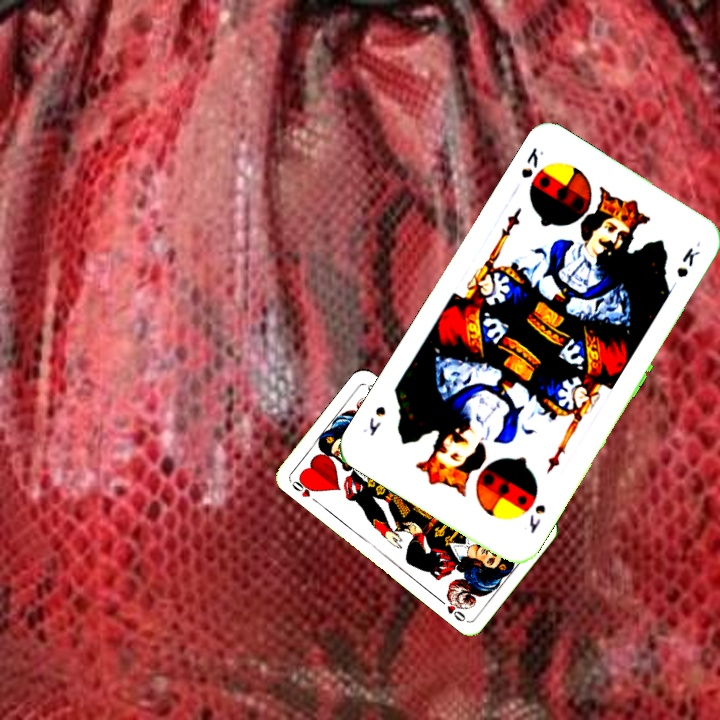HO: (286, 473, 319, 500)
SK: (517, 143, 547, 181), (525, 500, 549, 536)
